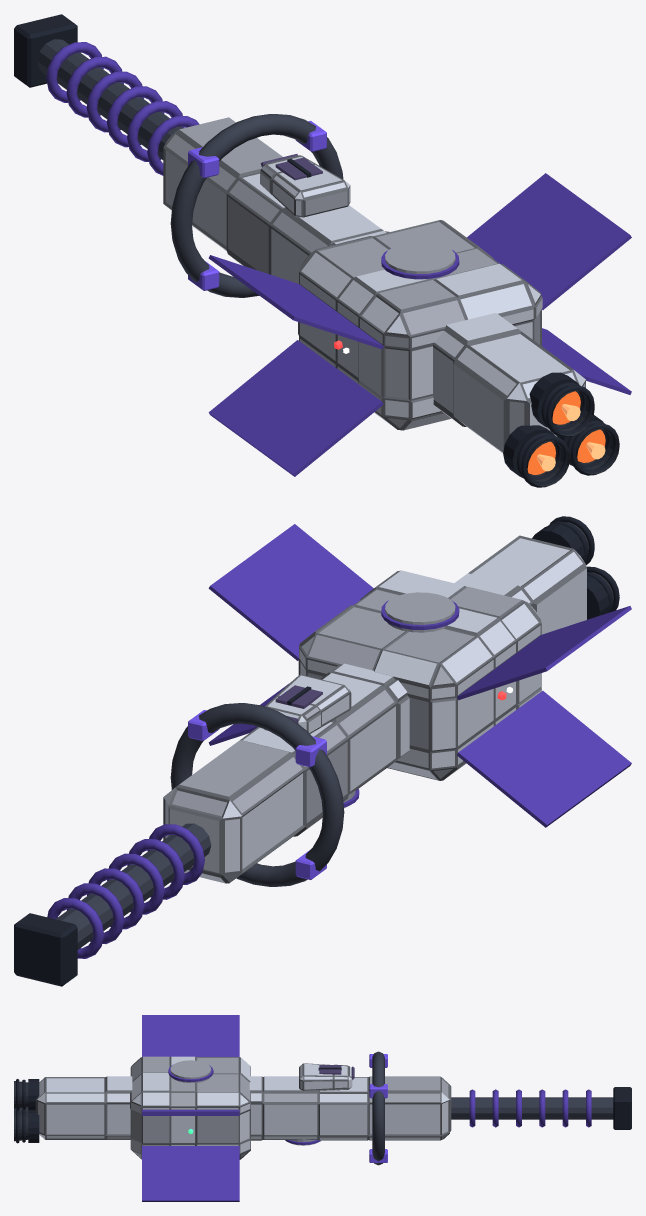
Rendered from lancer.glb.
3 views of the same model, one above another, from view 1: azimuth 30°, elevation 25°; view 2: azimuth 150°, elevation 25°; view 3: azimuth 270°, elevation 25° (orthographic). The views are drawn at different scales.
Parts seen in each view (by area): view 1: lancer_mesh; view 2: lancer_mesh; view 3: lancer_mesh.
Part boxes in pixels (left/top/right/bottom): lancer_mesh: left=14, top=14, right=631, bottom=487; lancer_mesh: left=14, top=516, right=631, bottom=986; lancer_mesh: left=14, top=1015, right=631, bottom=1201.
Bounding box in the file's own units: 6.01 × 3.04 × 16.46.
